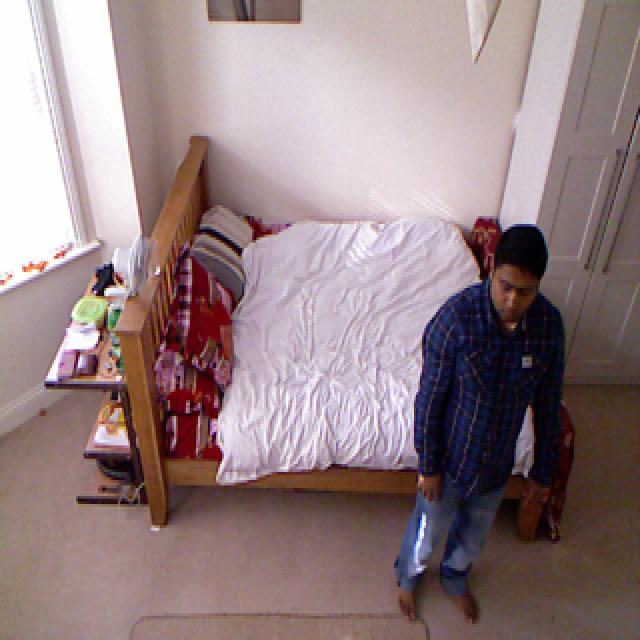standing: (415, 216, 569, 604)
